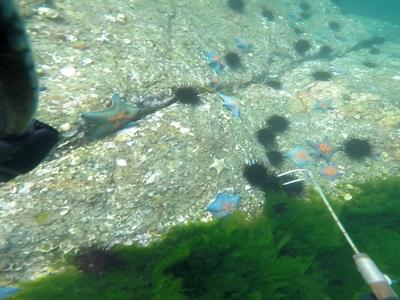urchin: (72, 245, 121, 278), (343, 134, 368, 161), (243, 161, 267, 186), (172, 84, 199, 104), (255, 129, 273, 146), (267, 149, 285, 166), (269, 113, 285, 131), (224, 52, 239, 66), (294, 39, 310, 52), (315, 70, 330, 81), (228, 3, 244, 11), (318, 45, 331, 53)
